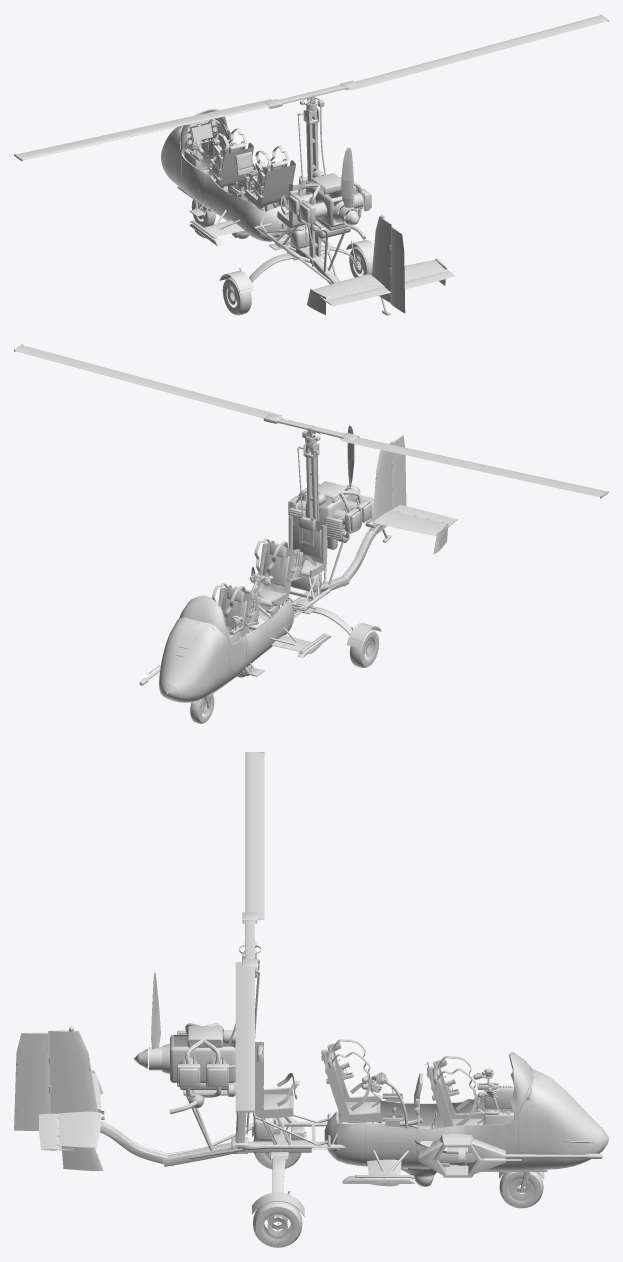
The model's file is UL2 Exterior.fbx.
3 renders of one model, top to bottom at view 1: azimuth 30°, elevation 25°; view 2: azimuth 150°, elevation 25°; view 3: azimuth 270°, elevation 25°, orthographic. The views are drawn at different scales.
Visible parts, largest first — view 1: UL2 Details, UL2 Skin; view 2: UL2 Details, UL2 Skin; view 3: UL2 Details, UL2 Skin.
Part boxes in pixels (x1,y1,x2,y2): UL2 Details: [14, 14, 608, 315]; UL2 Skin: [161, 119, 455, 314]; UL2 Details: [14, 344, 608, 723]; UL2 Skin: [159, 435, 457, 704]; UL2 Details: [49, 752, 608, 1247]; UL2 Skin: [14, 1030, 601, 1216].
Bounding box in the file's own units: 9.22 × 3.31 × 6.47.
16 materials, 1 textured.
